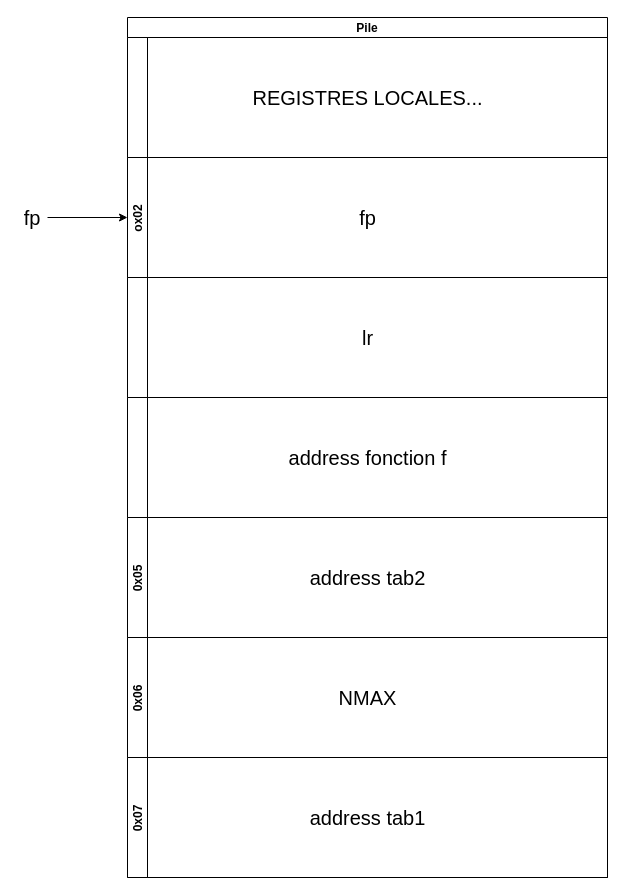
Some shapes in this 625 by 895 pixel diagram are drawn without their labels. The shapes that lost their labels are listed below. From the top down, each one's box as (x1, y1, x2, y2) in pixels, then its label:
(126, 36, 608, 158): 0x01
(126, 276, 608, 398): 0x03
(126, 396, 608, 518): 0x04
